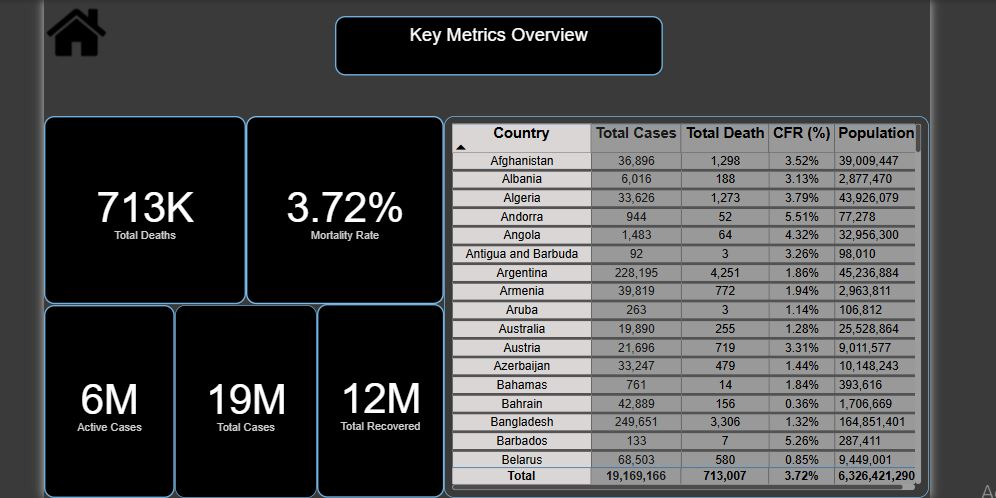

The dashboard page shown, as its layout file describes it:
{"tool":"powerbi","page":{"name":"Key Metrics Overview","canvas":[1280,720],"ordinal":1},"visuals":[{"type":"card","fields":{"Values":["Worldometer.Total Cases"]},"box":[189.4,441,205.3,279],"z":0},{"type":"card","fields":{"Values":["Worldometer.Total Deaths"]},"box":[0,167.7,292,271.8],"z":1000},{"type":"card","fields":{"Values":["Worldometer.Total Recovered"]},"box":[394.7,439.5,183.6,280.5],"z":2000},{"type":"card","fields":{"Values":["Worldometer.Active Cases"]},"box":[0,441,189.4,279],"z":3000},{"type":"card","fields":{"Values":["Country Wise.Mortality Rate"]},"box":[292,167.7,286.3,271.8],"z":4000},{"type":"textbox","box":[420,23.1,473.8,86.2],"z":5000},{"type":"actionButton","box":[0,0,96.9,93.8],"z":6000},{"type":"tableEx","fields":{"Values":["Worldometer.Country","Sum(Worldometer.Total_cases)","Sum(Worldometer.TotalDeaths)","Worldometer.CFR (%)","Sum(Worldometer.Population)"]},"box":[578.3,167.7,701.2,552.3],"z":7000}]}

Visuals, with their boxes on the page's 1280x720 design canvas (x1, y1, x2, y2). These are canvas units, not pixel positions in the 996x498 screenshot, which may show the page scaled, cropped or inside an application window:
card - Worldometer.Total Cases: [189,441,395,720]
card - Worldometer.Total Deaths: [0,168,292,440]
card - Worldometer.Total Recovered: [395,440,578,720]
card - Worldometer.Active Cases: [0,441,189,720]
card - Country Wise.Mortality Rate: [292,168,578,440]
textbox: [420,23,894,109]
actionButton: [0,0,97,94]
tableEx - Worldometer.Country x Sum(Worldometer.Total_cases): [578,168,1280,720]
